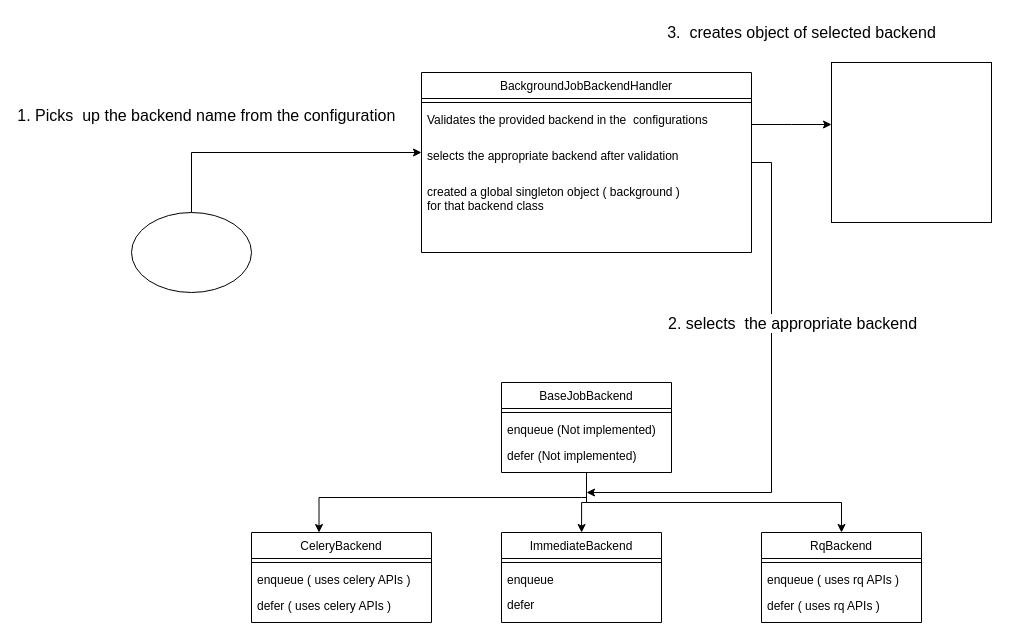
Image size: 1009x640. Some labels were removed from this diagram. The shapes that lost their labels are listed below. From the top down, each one's centre as x and y in pixels, then its label:
At point 911,142: "Global Singleton object of selected backend class ( background )".
At point 191,252: "configurations in settings.py".
